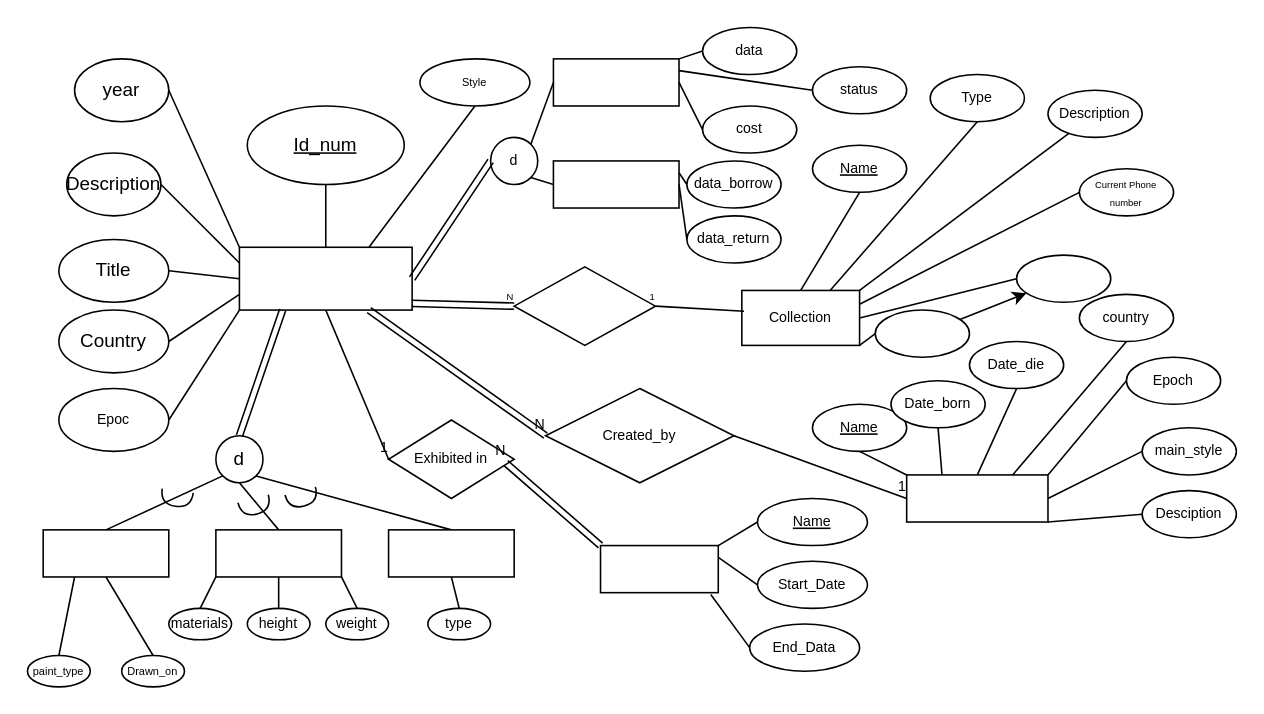
Some shapes in this 1264 by 714 pixel diagram are drawn without their labels. Each missing label, with the centre of its shape:
Address: point (1063, 278)
Art-object: point (325, 278)
Artist: point (976, 497)
belong_to: point (584, 305)
Borrowed: point (615, 183)
Exhibition: point (658, 568)
Other: point (450, 552)
Painting: point (105, 552)
Permanet-Collection: point (615, 81)
Phone: point (921, 333)
Sculpture/Stutue: point (277, 552)
